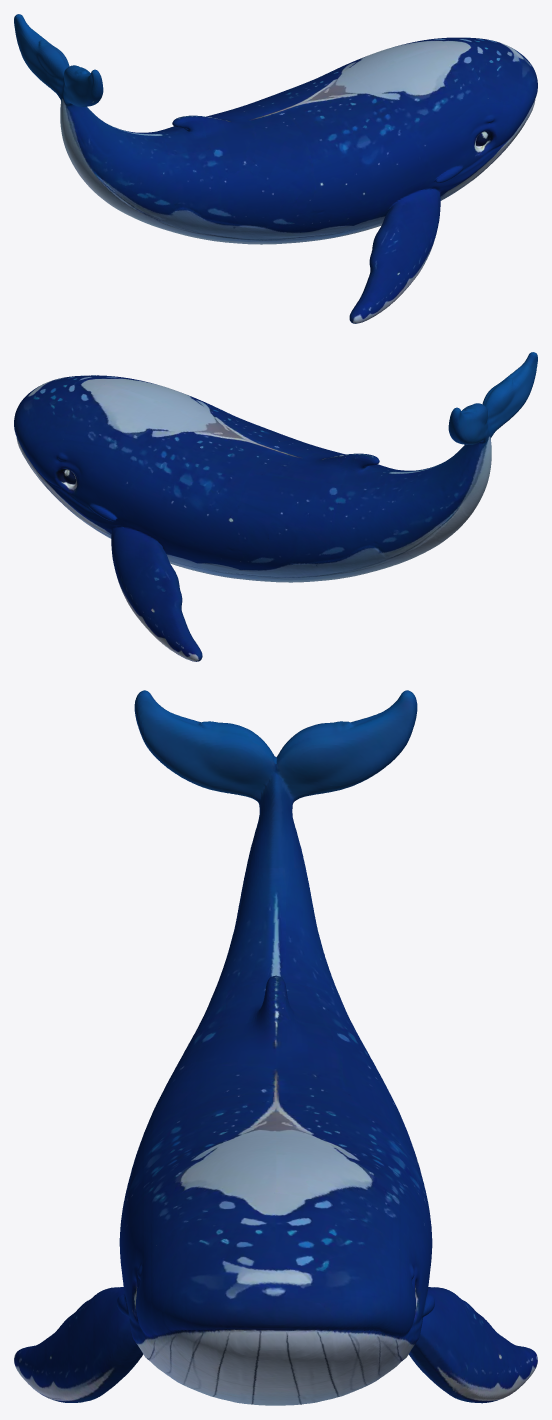
Rendered from whale-compressed.glb.
The picture shows the model from 3 angles, top to bottom: view 1: azimuth 30°, elevation 25°; view 2: azimuth 150°, elevation 25°; view 3: azimuth 270°, elevation 25°; orthographic projection. The views are drawn at different scales.
Parts seen in each view (by area): view 1: tripo_node_fb5e0da8-b815-4142-83fa-181d3628dfc3; view 2: tripo_node_fb5e0da8-b815-4142-83fa-181d3628dfc3; view 3: tripo_node_fb5e0da8-b815-4142-83fa-181d3628dfc3.
Boxes of the visible parts, left/top/right/bottom form: tripo_node_fb5e0da8-b815-4142-83fa-181d3628dfc3: left=14, top=14, right=537, bottom=323; tripo_node_fb5e0da8-b815-4142-83fa-181d3628dfc3: left=14, top=352, right=537, bottom=661; tripo_node_fb5e0da8-b815-4142-83fa-181d3628dfc3: left=14, top=690, right=537, bottom=1405.
Bounding box in the file's own units: 1 × 0.5726 × 0.5545.
Materials: 1 (1 with a texture image).
